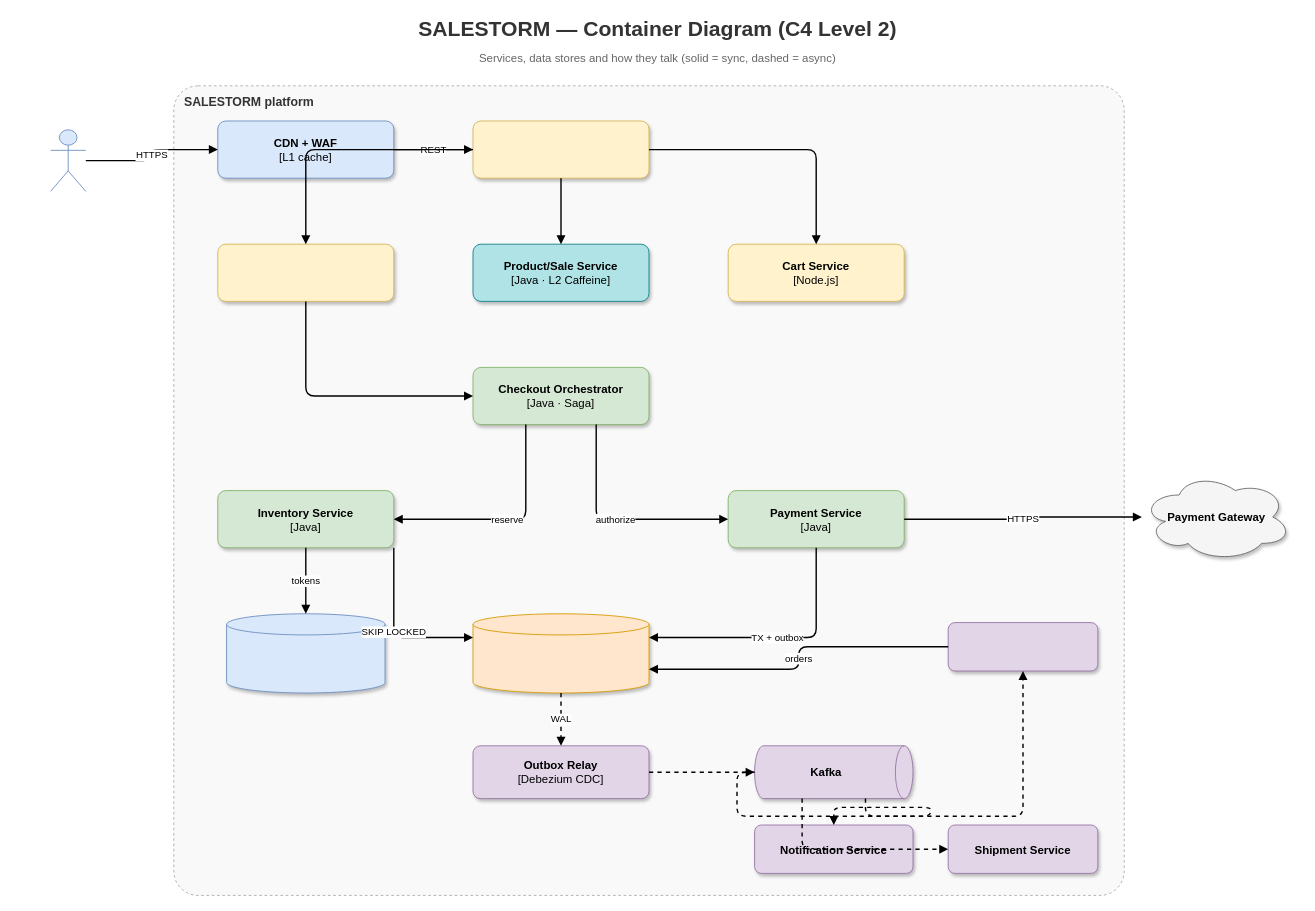
This 1315x911 diagram has some shape labels left out. The centre of each missing label's shape, as x and y in pixels:
API Gateway [Kong / Envoy]: (561,150)
Customer: (68,160)
Order Service: (1023,647)
PostgreSQL [L4 primary + replica]: (561,654)
Redis Cluster [L3]: (306,654)
Waiting Room [Go service]: (306,274)
